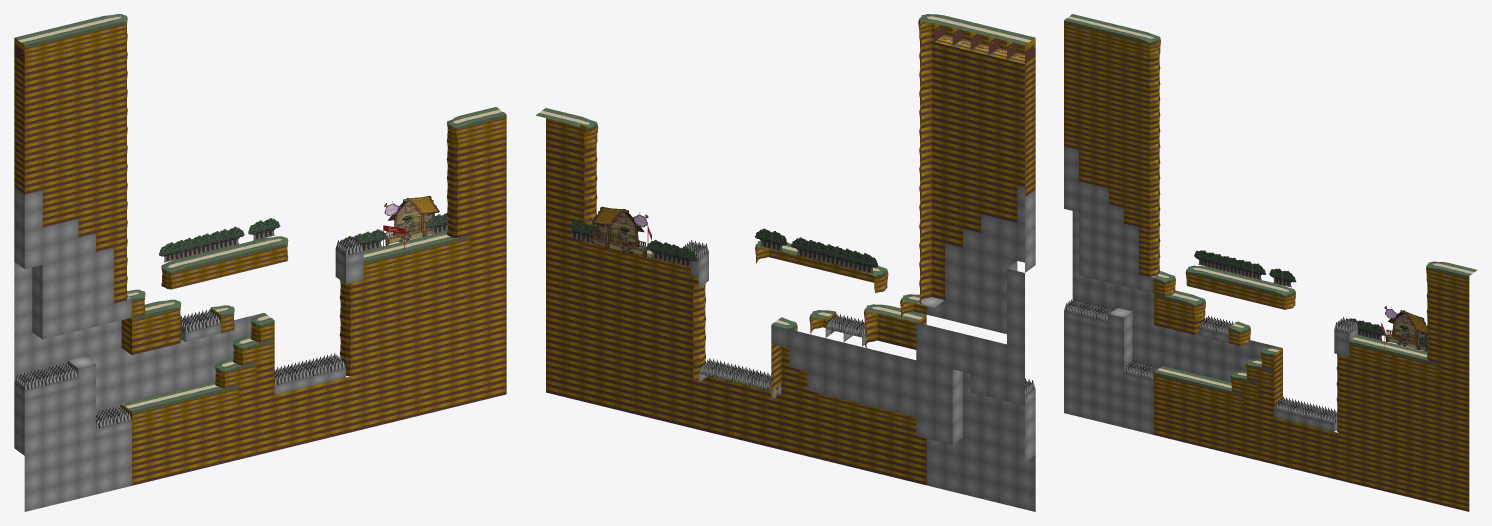
File: stage.fbx
The picture shows the model from 3 angles, left to right: view 1: azimuth 30°, elevation 25°; view 2: azimuth 150°, elevation 25°; view 3: azimuth 330°, elevation 25°; orthographic projection. The views are drawn at different scales.
Visible parts, largest first — view 1: polySurface11; view 2: polySurface11; view 3: polySurface11.
Part boxes in pixels (bbox=[...]): polySurface11: bbox=[14, 14, 506, 511]; polySurface11: bbox=[536, 14, 1035, 511]; polySurface11: bbox=[1064, 14, 1477, 511].
Size of the model in its own units: 540 by 501 by 21.
